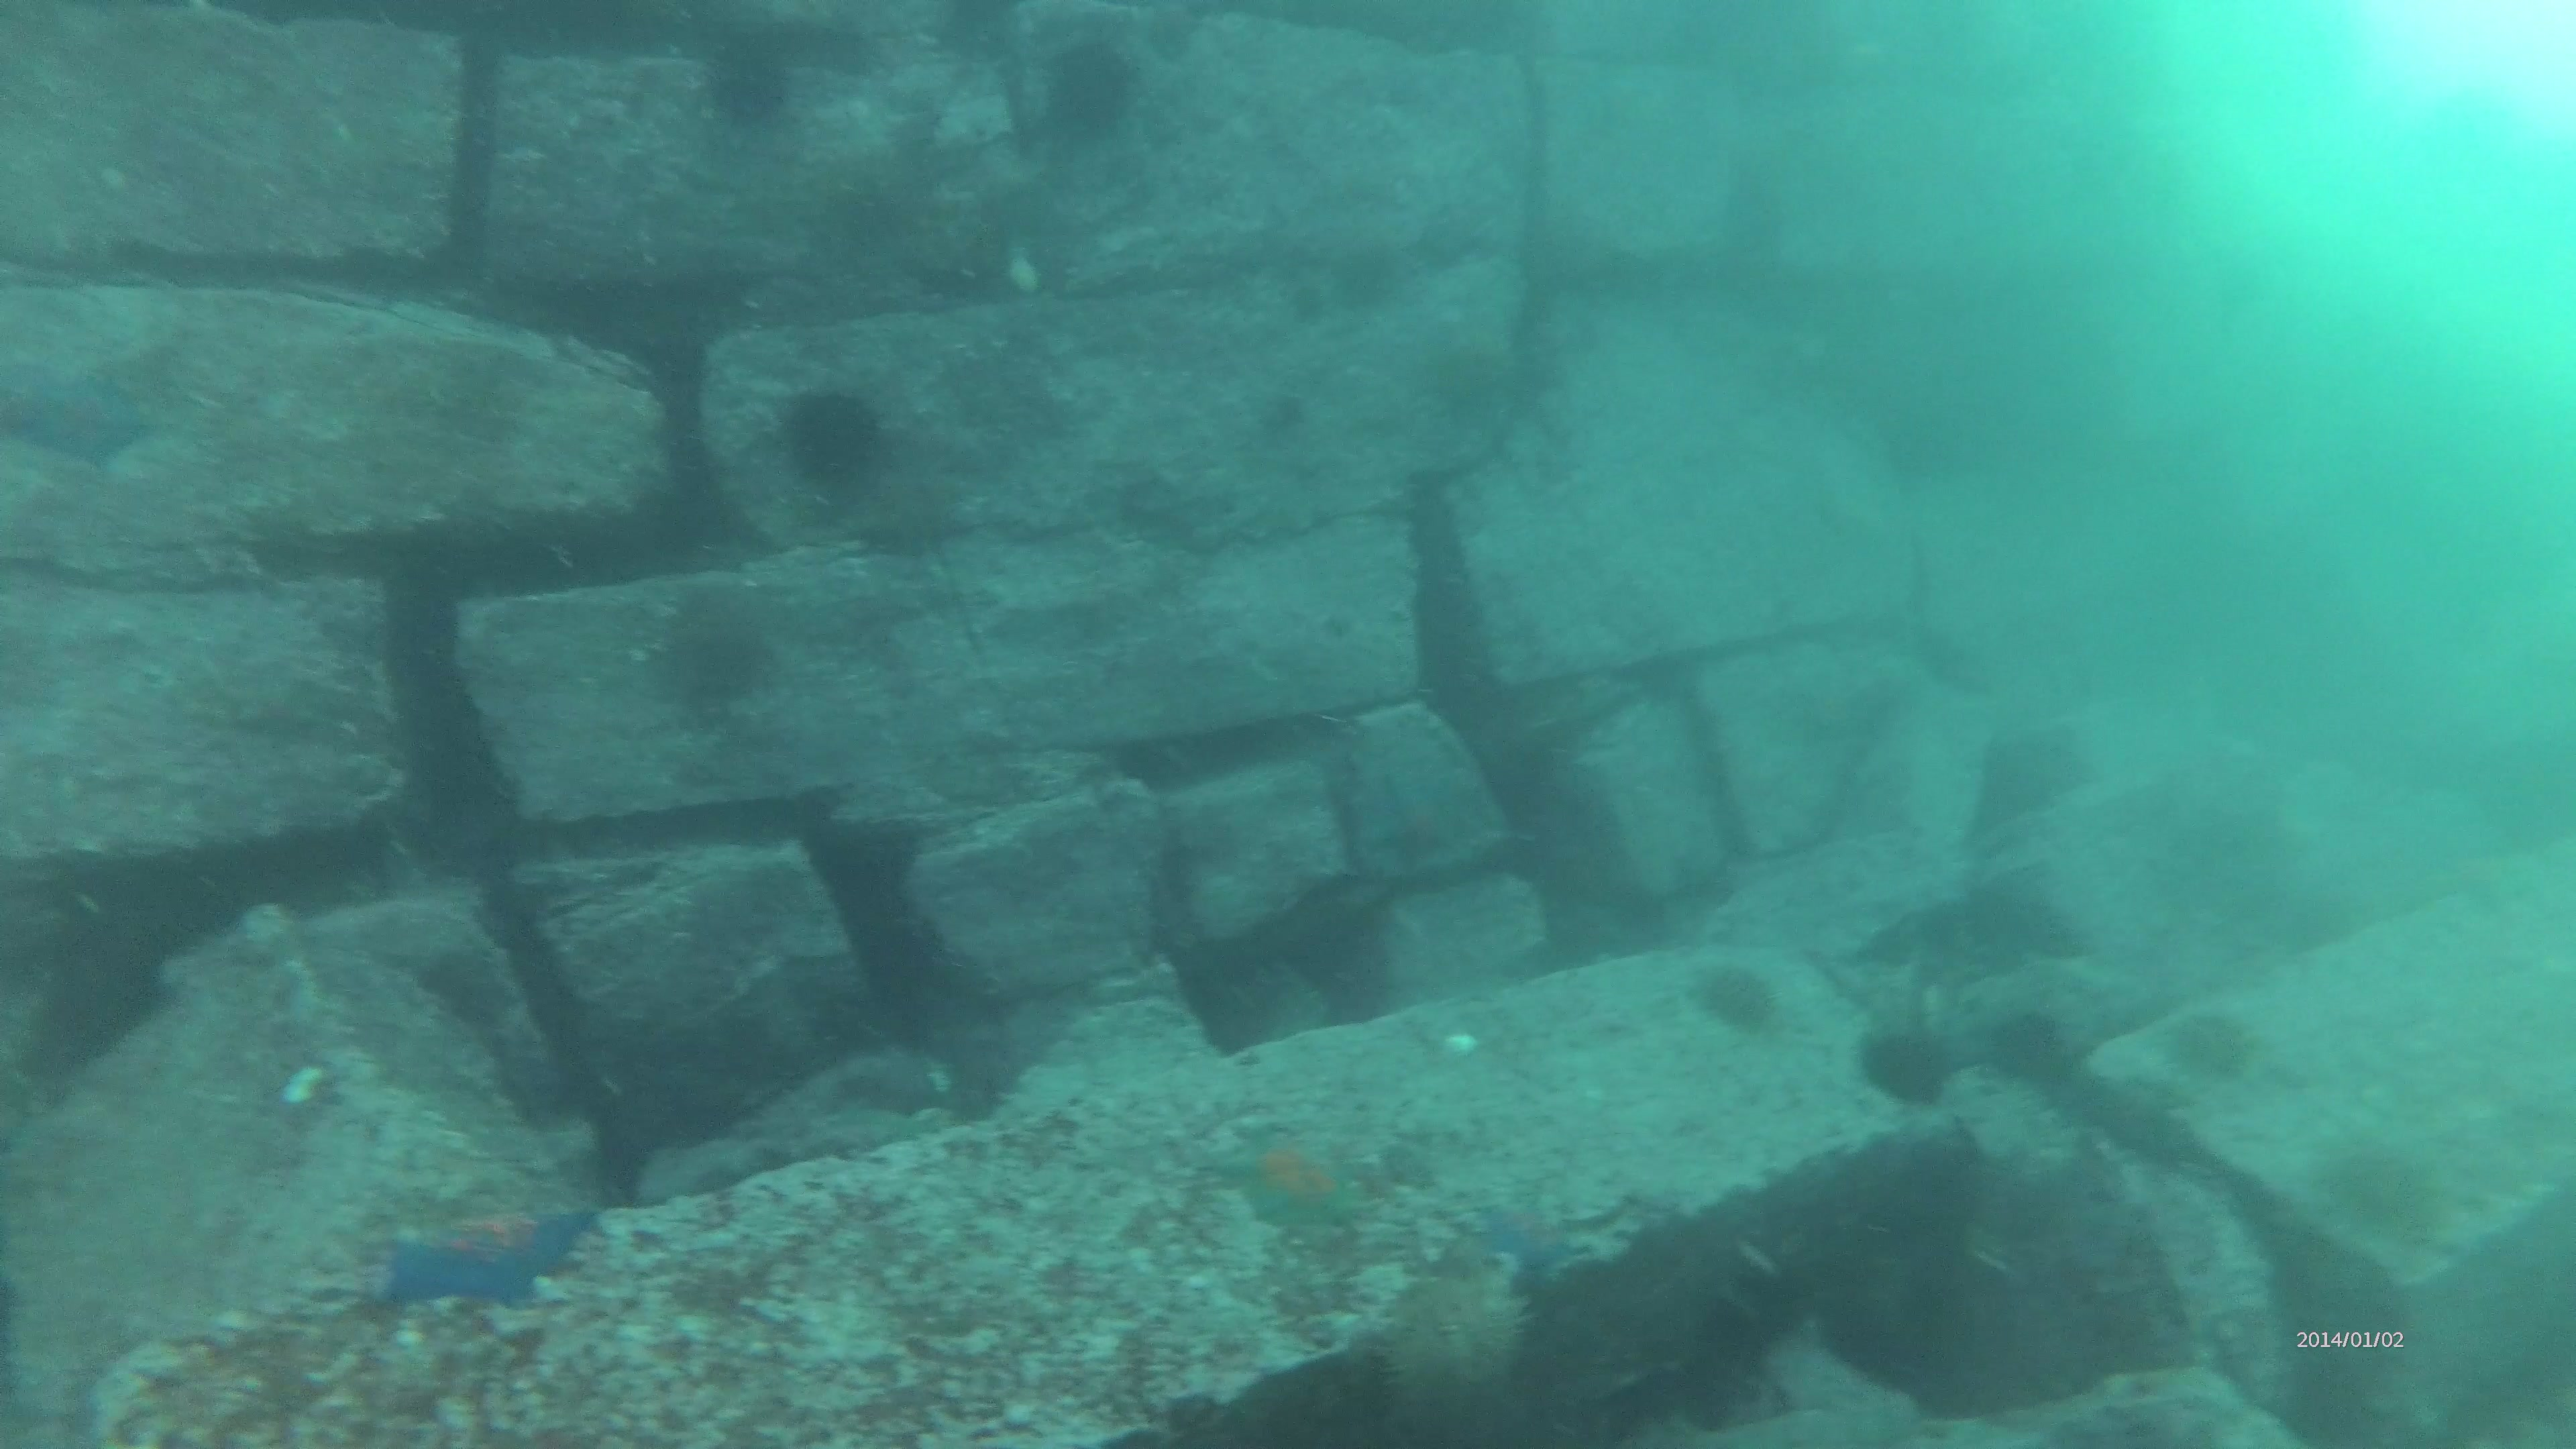echinus: (777, 391, 888, 488), (2342, 1148, 2445, 1240), (1039, 46, 1138, 134), (699, 46, 796, 127), (1858, 1021, 1951, 1104), (2176, 1008, 2265, 1086), (1693, 957, 1782, 1033)
starfish: (379, 1194, 594, 1313), (1214, 1125, 1376, 1228), (1476, 1200, 1573, 1276)
